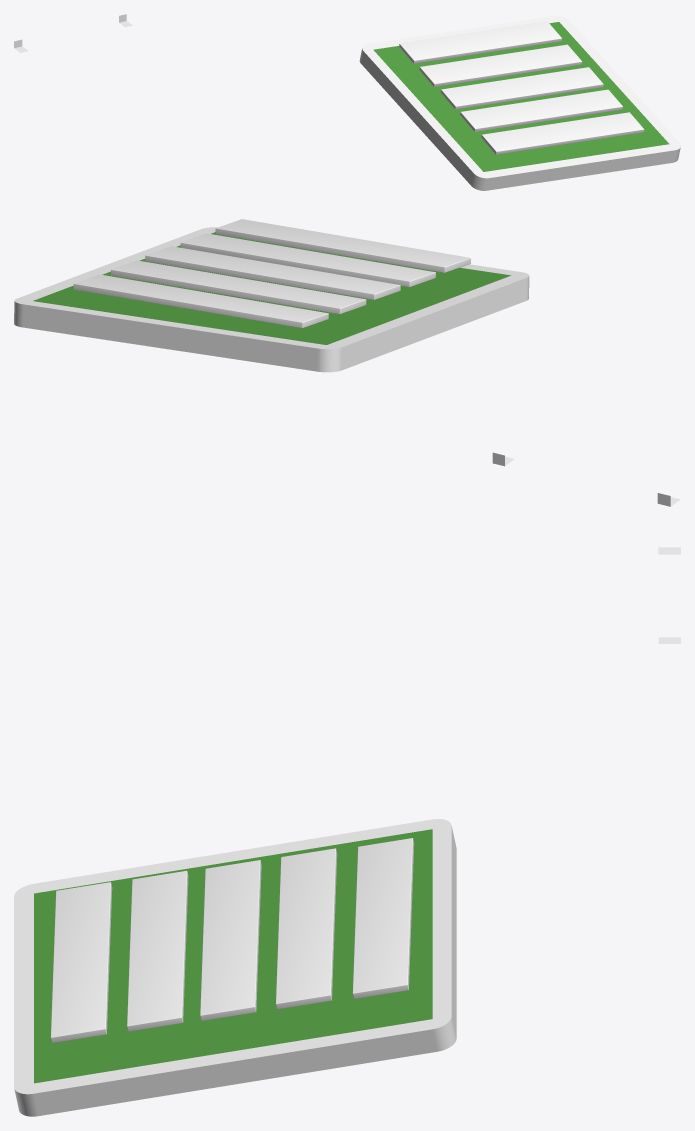
Rendered from single_board.glb.
3 renders of one model, top to bottom at view 1: azimuth 30°, elevation 25°; view 2: azimuth 150°, elevation 25°; view 3: azimuth 270°, elevation 25°, orthographic. The views are drawn at different scales.
Visible parts, largest first — view 1: Plane.021, Cube.004, Cube.047, Cube.035, Cube.020, Cube.025; view 2: Plane.021, Cube.020, Cube.047, Cube.035, Cube.004, Cube.025; view 3: Plane.021, Cube.004, Cube.020, Cube.025, Cube.035, Cube.047.
Part boxes in pixels (box(x1,y1,x2,y2)): Plane.021: box(359, 15, 680, 190); Cube.004: box(419, 44, 582, 86); Cube.047: box(399, 21, 561, 63); Cube.035: box(481, 112, 644, 154); Cube.020: box(440, 67, 603, 109); Cube.025: box(460, 89, 622, 131); Plane.021: box(14, 227, 529, 372); Cube.020: box(145, 246, 400, 299); Cube.047: box(73, 274, 328, 328); Cube.035: box(215, 219, 470, 272); Cube.004: box(111, 260, 366, 314); Cube.025: box(180, 233, 435, 287); Plane.021: box(14, 819, 456, 1116); Cube.004: box(275, 848, 337, 1009); Cube.020: box(200, 860, 261, 1020); Cube.025: box(127, 870, 188, 1031); Cube.035: box(50, 882, 112, 1042); Cube.047: box(352, 838, 414, 998).
Bounding box in the file's own units: 7.01 × 1.36 × 4.77.
